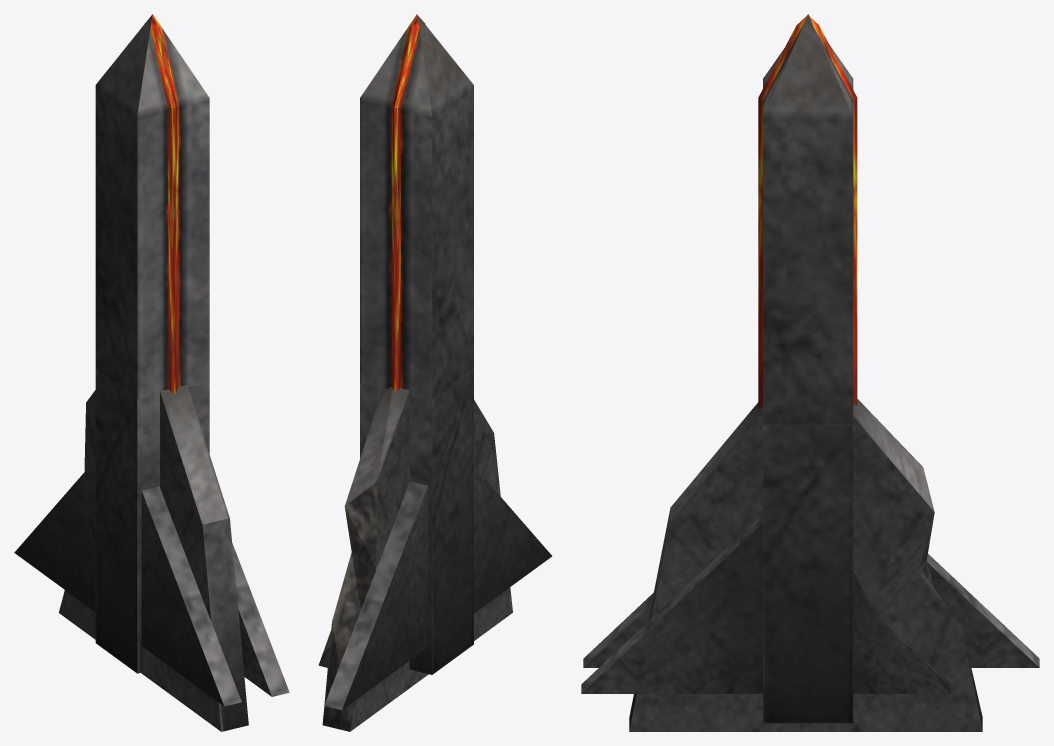
3 renders of one model, left to right at view 1: azimuth 30°, elevation 25°; view 2: azimuth 150°, elevation 25°; view 3: azimuth 270°, elevation 25°, orthographic. The views are drawn at different scales.
Parts seen in each view (by area): view 1: wj15; view 2: wj15; view 3: wj15.
Boxes of the visible parts, left/top/right/bottom form: wj15: left=14, top=14, right=289, bottom=731; wj15: left=318, top=14, right=551, bottom=731; wj15: left=581, top=14, right=1039, bottom=731.
Bounding box in the file's own units: 176 × 1526 × 892.
